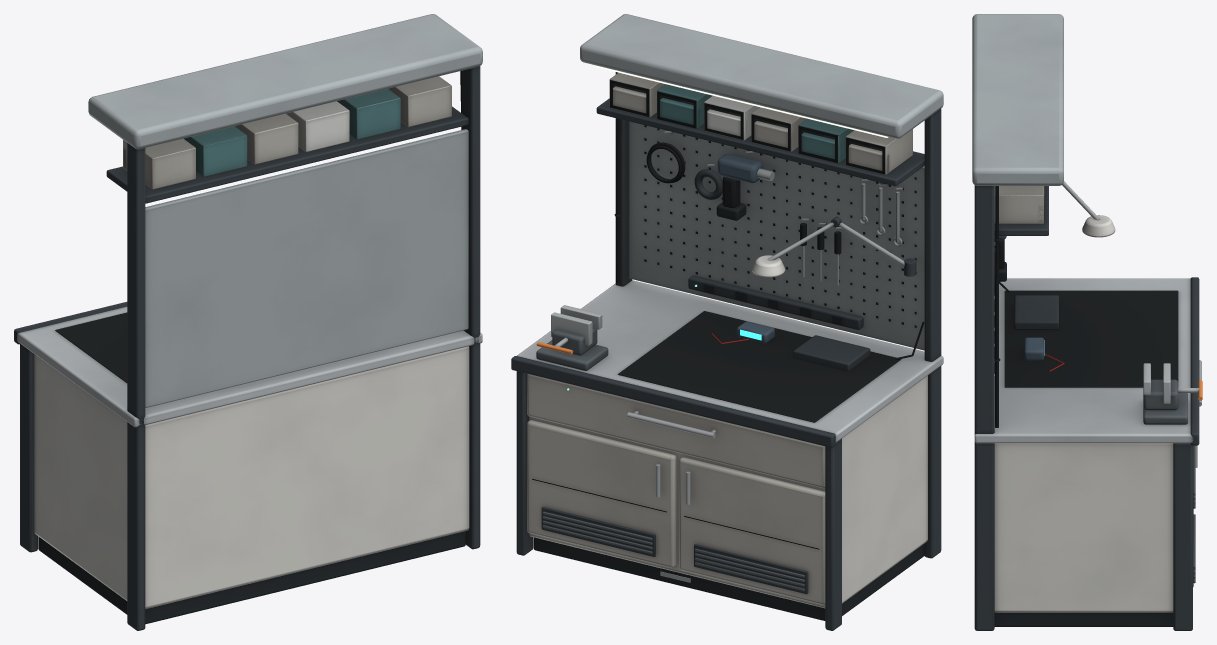
The model's file is tool_bench.glb.
3 renders of one model, left to right at view 1: azimuth 30°, elevation 25°; view 2: azimuth 150°, elevation 25°; view 3: azimuth 270°, elevation 25°, orthographic. The views are drawn at different scales.
Parts seen in each view (by area): view 1: carcass_shell_white, pegboard_panel_cool, cap_panel_cool, worktop_satin_alloy, post_l_frame_graphite, post_r_frame_graphite, plinth_deep_graphite, shelf_frame_graphite, leg_l_frame_graphite, esd_mat_black_rubber, bin_0_shell_panel_warm, bin_2_shell_panel_warm (+5 smaller); view 2: pegboard_panel_cool, cap_panel_cool, carcass_shell_white, esd_mat_black_rubber, worktop_satin_alloy, Tool_Cupboard_Right_panel_warm, Tool_Cupboard_Left_panel_warm, Spares_Tray_front_panel_warm, post_l_frame_graphite, worktop_nosing_frame_graphite, plinth_deep_graphite, shelf_frame_graphite (+26 smaller); view 3: carcass_shell_white, cap_panel_cool, esd_mat_black_rubber, worktop_satin_alloy, post_r_frame_graphite, leg_r_frame_graphite, plinth_deep_graphite, bin_5_shell_panel_warm, worktop_nosing_frame_graphite, parts_tray_frame_graphite, post_cable_black_rubber, vice_body_dark_alloy (+4 smaller).
Boxes of the visible parts, x1,y1,x2,y2 form: carcass_shell_white: [34, 346, 469, 608]; pegboard_panel_cool: [145, 129, 468, 407]; cap_panel_cool: [88, 14, 482, 149]; worktop_satin_alloy: [17, 306, 482, 427]; post_l_frame_graphite: [127, 143, 145, 630]; post_r_frame_graphite: [462, 66, 480, 549]; plinth_deep_graphite: [38, 531, 465, 624]; shelf_frame_graphite: [106, 106, 468, 203]; leg_l_frame_graphite: [20, 344, 37, 552]; esd_mat_black_rubber: [55, 312, 127, 382]; bin_0_shell_panel_warm: [123, 138, 195, 189]; bin_2_shell_panel_warm: [235, 113, 298, 164]; pegboard_panel_cool: [629, 121, 924, 350]; cap_panel_cool: [580, 14, 943, 138]; carcass_shell_white: [529, 375, 927, 608]; esd_mat_black_rubber: [618, 311, 901, 422]; worktop_satin_alloy: [517, 280, 943, 442]; Tool_Cupboard_Right_panel_warm: [527, 420, 676, 567]; Tool_Cupboard_Left_panel_warm: [679, 457, 825, 604]; Spares_Tray_front_panel_warm: [527, 373, 825, 488]; post_l_frame_graphite: [924, 108, 941, 558]; worktop_nosing_frame_graphite: [511, 356, 835, 447]; plinth_deep_graphite: [533, 537, 924, 620]; shelf_frame_graphite: [596, 98, 924, 186]; carcass_shell_white: [994, 443, 1173, 612]; cap_panel_cool: [972, 14, 1063, 185]; esd_mat_black_rubber: [1004, 290, 1178, 387]; worktop_satin_alloy: [974, 278, 1193, 443]; post_r_frame_graphite: [974, 185, 994, 630]; leg_r_frame_graphite: [1173, 443, 1192, 630]; plinth_deep_graphite: [994, 612, 1173, 626]; bin_5_shell_panel_warm: [994, 186, 1044, 223]; worktop_nosing_frame_graphite: [1190, 277, 1199, 445]; parts_tray_frame_graphite: [1014, 295, 1058, 329]; post_cable_black_rubber: [994, 186, 1000, 427]; vice_body_dark_alloy: [1143, 379, 1178, 410].
Size of the model in its own units: 1.5 by 2.06 by 0.929.
5 materials, 1 textured.
